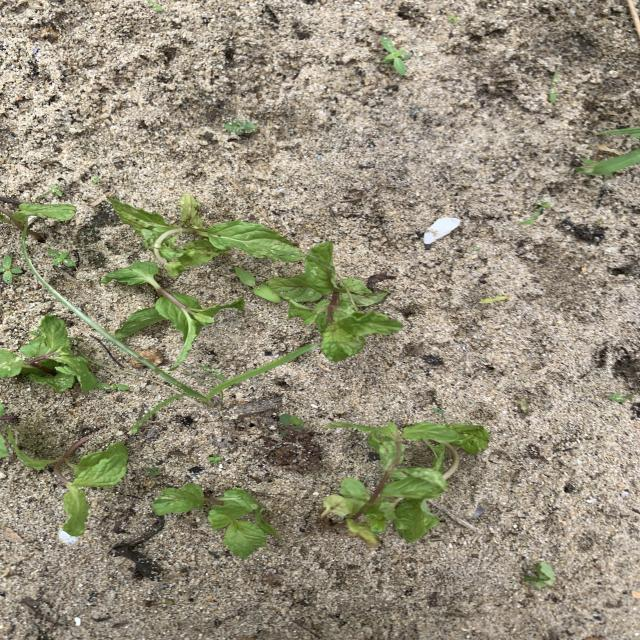crop: (320, 422, 485, 544), (107, 193, 303, 274), (268, 242, 402, 359), (104, 260, 242, 360), (16, 441, 125, 535), (152, 484, 279, 556), (1, 315, 99, 390), (1, 203, 74, 235)
weed: (21, 235, 316, 433), (235, 267, 281, 303), (575, 150, 639, 175), (382, 38, 409, 74), (524, 563, 557, 591), (279, 413, 305, 438), (0, 255, 21, 283), (47, 249, 76, 267), (225, 120, 255, 134), (598, 128, 639, 137), (97, 382, 130, 391), (608, 392, 634, 402), (47, 184, 63, 197), (480, 296, 507, 302), (147, 1, 163, 11), (207, 454, 221, 463), (146, 467, 159, 475)
